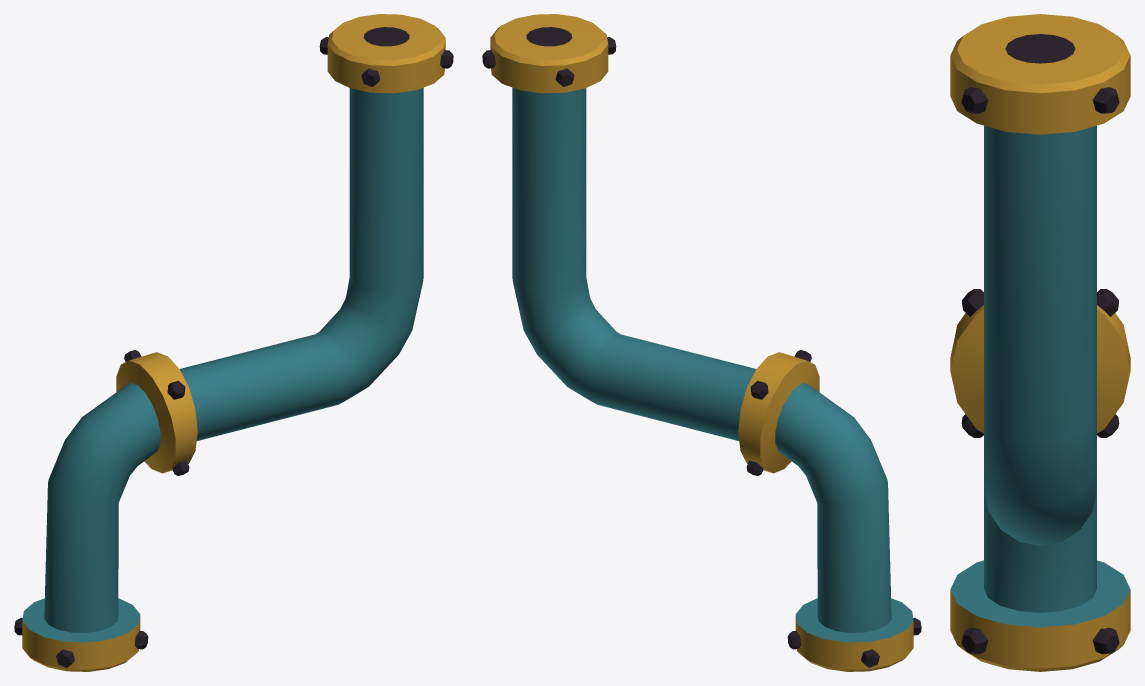
The model's file is PipeRun_09.glb.
The picture shows the model from 3 angles, left to right: view 1: azimuth 30°, elevation 25°; view 2: azimuth 150°, elevation 25°; view 3: azimuth 270°, elevation 25°; orthographic projection. The views are drawn at different scales.
Visible parts, largest first — view 1: PipeRun_09; view 2: PipeRun_09; view 3: PipeRun_09.
Boxes of the visible parts, x1,y1,x2,y2 form: PipeRun_09: [14, 14, 453, 671]; PipeRun_09: [482, 14, 921, 671]; PipeRun_09: [950, 14, 1130, 671].
Bounding box in the file's own units: 4.05 × 5.1 × 1.02.
